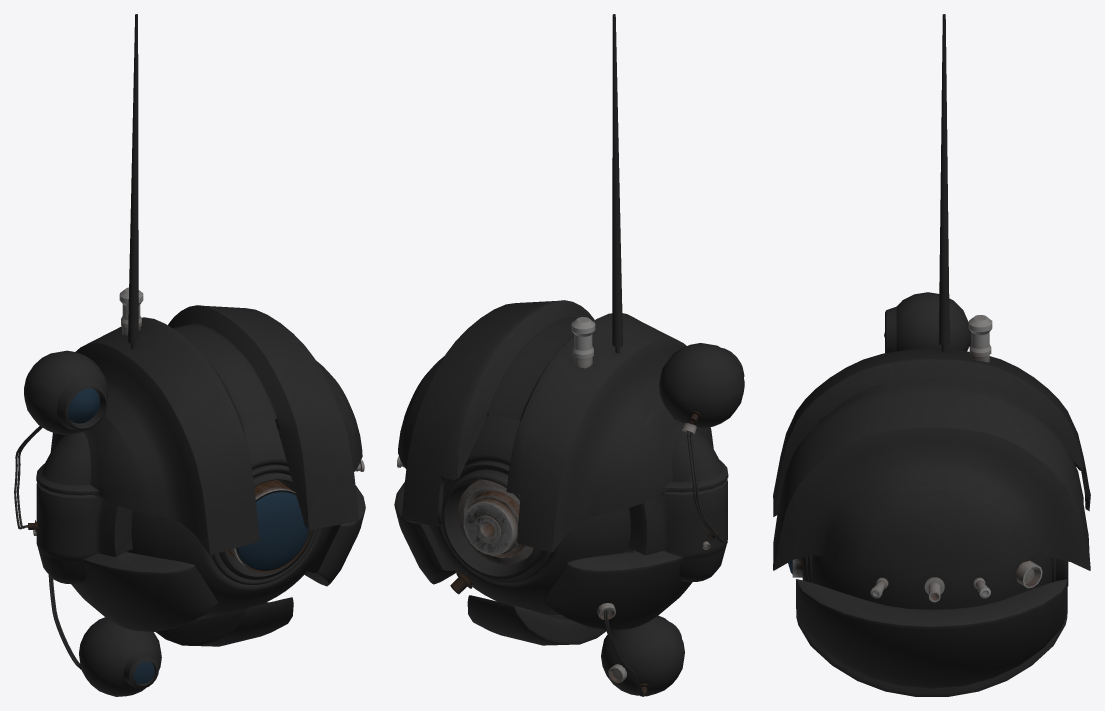
3 views of the same model, side by side, from view 1: azimuth 30°, elevation 25°; view 2: azimuth 150°, elevation 25°; view 3: azimuth 270°, elevation 25° (orthographic).
Visible parts, largest first — view 1: shell_low, cam_low, ball_low, d_low, Object018_Material #26_0; view 2: shell_low, cam_low, ball_low, d_low; view 3: shell_low, ball_low, d_low, cam_low.
Part boxes in pixels (box(x1,y1,x2,y2)): shell_low: box(36, 305, 365, 646); cam_low: box(24, 350, 311, 696); ball_low: box(126, 419, 332, 616); d_low: box(14, 14, 364, 669); Object018_Material #26_0: box(236, 491, 309, 570); shell_low: box(394, 300, 728, 645); cam_low: box(458, 343, 744, 696); ball_low: box(429, 413, 631, 614); d_low: box(397, 14, 723, 696); shell_low: box(773, 349, 1090, 696); ball_low: box(802, 555, 1068, 609); d_low: box(870, 14, 1042, 602); cam_low: box(792, 292, 971, 577).
Size of the model in its own units: 14.1 by 28.27 by 11.96.
Materials: 1 (1 with a texture image).
